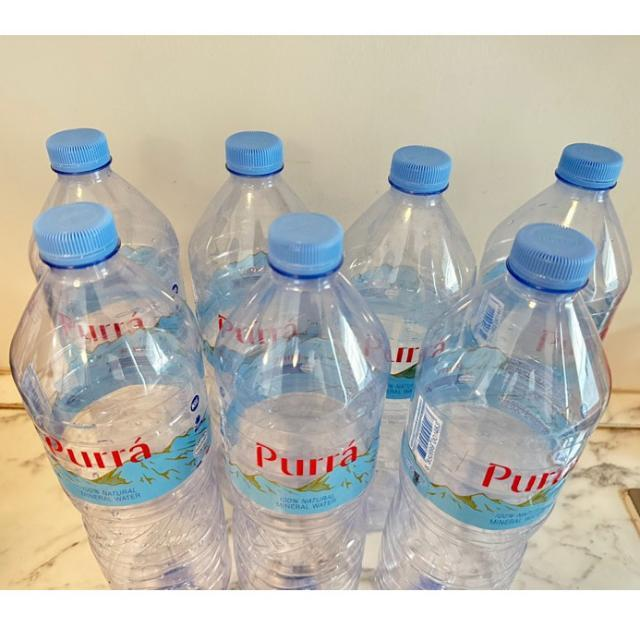PET Bottle: (388, 209, 620, 597), (6, 203, 232, 599), (190, 216, 394, 600), (0, 92, 180, 264), (137, 67, 318, 237), (332, 136, 484, 311), (479, 149, 640, 292)
